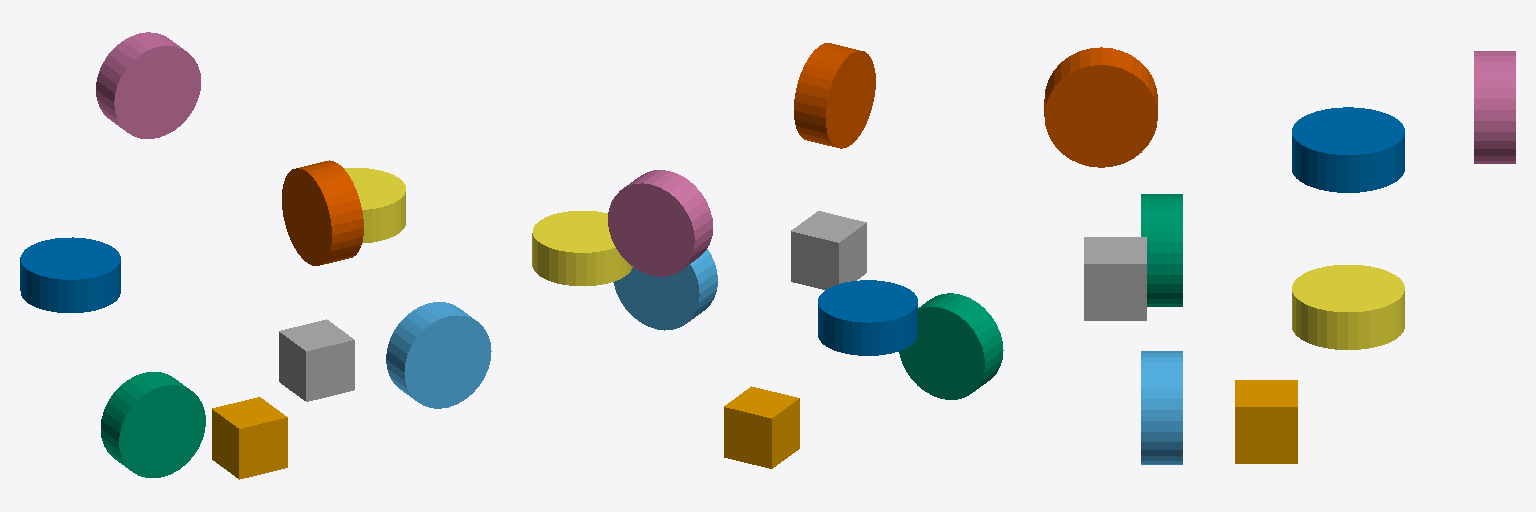
robot.urdf — nautilus:
<?xml version="1.0" ?>
<!-- =================================================================================== -->
<!-- |    This document was autogenerated by xacro from rov22.urdf.xacro               | -->
<!-- |    EDITING THIS FILE BY HAND IS NOT RECOMMENDED                                 | -->
<!-- =================================================================================== -->
<robot name="nautilus">
  <!-- Begin defining the ROV -->
  <link name="body">
    <inertial>
      <origin rpy="0.0 0.0 0.0" xyz="0.0 -.135 0.0"/>
      <!-- TOOD: get a better mass estimate -->
      <mass value="21.576"/>
      <inertia ixx="0.083" ixy="0.0" ixz="0.0" iyy="0.083" iyz="0.0" izz="0.0"/>
    </inertial>
    <collision name="body">
      <origin xyz="0.0 -.135 0.0"/>
      <geometry>
        <box size="0.29 0.31 0.24"/>
      </geometry>
    </collision>
    <visual name="body">
      <geometry>
        <mesh filename="model://nautilus/meshes/rov22.dae"/>
      </geometry>
    </visual>
  </link>
  <!-- Instantiations -->
  <!-- current model has the the directions -->
  <!-- x+ -> left -->
  <!-- y+ -> back -->
  <!-- z+ -> up -->
  <link name="motor_A">
    <inertial>
      <mass value="0.20993692907613795"/>
      <inertia ixx="0.4" ixy="0.0" ixz="0.0" iyy="0.4" iyz="0.0" izz="0.2"/>
    </inertial>
    <collision name="motor_A">
      <geometry>
        <cylinder length="0.033" radius="0.045"/>
      </geometry>
    </collision>
    <visual name="motor_A">
      <geometry>
        <cylinder length="0.033" radius="0.045"/>
      </geometry>
    </visual>
  </link>
  <joint name="motor_A_joint" type="fixed">
    <origin rpy="1.5707963267948966 0.0 0" xyz="0.1475 -0.283 -0.044"/>
    <parent link="body"/>
    <child link="motor_A"/>
  </joint>
  <link name="motor_B">
    <inertial>
      <mass value="0.20993692907613795"/>
      <inertia ixx="0.4" ixy="0.0" ixz="0.0" iyy="0.4" iyz="0.0" izz="0.2"/>
    </inertial>
    <collision name="motor_B">
      <geometry>
        <cylinder length="0.033" radius="0.045"/>
      </geometry>
    </collision>
    <visual name="motor_B">
      <geometry>
        <cylinder length="0.033" radius="0.045"/>
      </geometry>
    </visual>
  </link>
  <joint name="motor_B_joint" type="fixed">
    <origin rpy="1.5707963267948966 0.0 0" xyz="-0.1475 -0.283 -0.044"/>
    <parent link="body"/>
    <child link="motor_B"/>
  </joint>
  <link name="motor_E">
    <inertial>
      <mass value="0.20993692907613795"/>
      <inertia ixx="0.4" ixy="0.0" ixz="0.0" iyy="0.4" iyz="0.0" izz="0.2"/>
    </inertial>
    <collision name="motor_E">
      <geometry>
        <cylinder length="0.033" radius="0.045"/>
      </geometry>
    </collision>
    <visual name="motor_E">
      <geometry>
        <cylinder length="0.033" radius="0.045"/>
      </geometry>
    </visual>
  </link>
  <joint name="motor_E_joint" type="fixed">
    <origin rpy="0.0 0.0 0.0" xyz="0.1475 -0.135 0.044"/>
    <parent link="body"/>
    <child link="motor_E"/>
  </joint>
  <link name="motor_F">
    <inertial>
      <mass value="0.20993692907613795"/>
      <inertia ixx="0.4" ixy="0.0" ixz="0.0" iyy="0.4" iyz="0.0" izz="0.2"/>
    </inertial>
    <collision name="motor_F">
      <geometry>
        <cylinder length="0.033" radius="0.045"/>
      </geometry>
    </collision>
    <visual name="motor_F">
      <geometry>
        <cylinder length="0.033" radius="0.045"/>
      </geometry>
    </visual>
  </link>
  <joint name="motor_F_joint" type="fixed">
    <origin rpy="0.0 0.0 0.0" xyz="-0.1475 -0.135 0.044"/>
    <parent link="body"/>
    <child link="motor_F"/>
  </joint>
  <link name="motor_C">
    <inertial>
      <mass value="0.20993692907613795"/>
      <inertia ixx="0.4" ixy="0.0" ixz="0.0" iyy="0.4" iyz="0.0" izz="0.2"/>
    </inertial>
    <collision name="motor_C">
      <geometry>
        <cylinder length="0.033" radius="0.045"/>
      </geometry>
    </collision>
    <visual name="motor_C">
      <geometry>
        <cylinder length="0.033" radius="0.045"/>
      </geometry>
    </visual>
  </link>
  <joint name="motor_C_joint" type="fixed">
    <origin rpy="0 1.5707963267948966 0" xyz="0 -0.331 0.15"/>
    <parent link="body"/>
    <child link="motor_C"/>
  </joint>
  <link name="motor_D">
    <inertial>
      <mass value="0.20993692907613795"/>
      <inertia ixx="0.4" ixy="0.0" ixz="0.0" iyy="0.4" iyz="0.0" izz="0.2"/>
    </inertial>
    <collision name="motor_D">
      <geometry>
        <cylinder length="0.033" radius="0.045"/>
      </geometry>
    </collision>
    <visual name="motor_D">
      <geometry>
        <cylinder length="0.033" radius="0.045"/>
      </geometry>
    </visual>
  </link>
  <joint name="motor_D_joint" type="fixed">
    <origin rpy="1.5707963267948966 0.0 0" xyz="0 -0.019 0.15"/>
    <parent link="body"/>
    <child link="motor_D"/>
  </joint>
  <link name="camera1">
    <inertial>
      <mass value="0.12500000000000003"/>
      <inertia ixx="1e-4" ixy="0.0" ixz="0.0" iyy="1e-4" iyz="0.0" izz="1e-4"/>
    </inertial>
    <visual name="camera1">
      <geometry>
        <box size="0.05 0.05 0.05"/>
      </geometry>
    </visual>
    <collision name="camera1">
      <geometry>
        <box size="0.05 0.05 0.05"/>
      </geometry>
    </collision>
  </link>
  <joint name="camera1_joint" type="fixed">
    <origin rpy="0.0 0.0 0.0" xyz="0.0 -0.32 0.0"/>
    <parent link="body"/>
    <child link="camera1"/>
  </joint>
  <link name="camera2">
    <inertial>
      <mass value="0.12500000000000003"/>
      <inertia ixx="1e-4" ixy="0.0" ixz="0.0" iyy="1e-4" iyz="0.0" izz="1e-4"/>
    </inertial>
    <visual name="camera2">
      <geometry>
        <box size="0.05 0.05 0.05"/>
      </geometry>
    </visual>
    <collision name="camera2">
      <geometry>
        <box size="0.05 0.05 0.05"/>
      </geometry>
    </collision>
  </link>
  <joint name="camera2_joint" type="fixed">
    <origin rpy="0.0 0.0 0.0" xyz="0.0 -0.2 -0.125"/>
    <parent link="body"/>
    <child link="camera2"/>
  </joint>
  <!-- Sensor Definitions -->
  <gazebo>
    <plugin filename="libgazebo_ros_imu.so" name="imu_plugin">
      <alwaysOn>true</alwaysOn>
      <bodyName>body</bodyName>
      <topicName>imu</topicName>
      <serviceName>imu_service</serviceName>
      <gaussianNoise>0.0</gaussianNoise>
      <updateRate>20.0</updateRate>
    </plugin>
  </gazebo>
  <!-- Bouyancy Plugin -->
  <gazebo>
    <plugin filename="libBuoyancyPlugin.so" name="BuoyancyPlugin">
      <fluid_density>1000</fluid_density>
      <link name="body">
        <!-- TODO: calculate volume of ROV -->
        <!-- TODO: provide center of mass -->
        <volume>0.021576</volume>
        <!-- <volume>0.05</volume> -->
        <center_of_volume>0 -.135 0</center_of_volume>
      </link>
    </plugin>
  </gazebo>
  <!-- Thrusters -->
  <gazebo reference="motor_A_joint">
    <preserveFixedJoint>true</preserveFixedJoint>
  </gazebo>
  <gazebo reference="motor_B_joint">
    <preserveFixedJoint>true</preserveFixedJoint>
  </gazebo>
  <gazebo reference="motor_C_joint">
    <preserveFixedJoint>true</preserveFixedJoint>
  </gazebo>
  <gazebo reference="motor_D_joint">
    <preserveFixedJoint>true</preserveFixedJoint>
  </gazebo>
  <gazebo reference="motor_E_joint">
    <preserveFixedJoint>true</preserveFixedJoint>
  </gazebo>
  <gazebo reference="motor_F_joint">
    <preserveFixedJoint>true</preserveFixedJoint>
  </gazebo>
  <gazebo>
    <plugin filename="libthruster.so" name="thruster"/>
  </gazebo>
  <!-- Cameras -->
  <gazebo reference="camera1">
    <sensor name="camera1" type="camera">
      <update_rate>30</update_rate>
      <always_on>true</always_on>
      <camera name="front">
        <horizontal_fov>1.39626</horizontal_fov>
        <image>
          <width>640</width>
          <height>480</height>
          <format>R8G8B8</format>
        </image>
        <clip>
          <near>0.1</near>
          <far>10.0</far>
        </clip>
      </camera>
      <plugin filename="libgazebo_ros_camera.so" name="camera_controller">
        <always_on>true</always_on>
        <update_rate>30</update_rate>
        <cameraName>nautilus/camera1</cameraName>
        <imageTopicName>/nautilus/camera1/image_raw</imageTopicName>
        <cameraInfoTopicName>/nautilus/camera1/camera_info</cameraInfoTopicName>
      </plugin>
    </sensor>
  </gazebo>
  <gazebo reference="camera1_joint">
    <preserveFixedJoint>true</preserveFixedJoint>
  </gazebo>
  <gazebo reference="camera2">
    <sensor name="camera2" type="camera">
      <update_rate>30</update_rate>
      <always_on>true</always_on>
      <camera name="front">
        <horizontal_fov>1.39626</horizontal_fov>
        <image>
          <width>640</width>
          <height>480</height>
          <format>R8G8B8</format>
        </image>
        <clip>
          <near>0.1</near>
          <far>10.0</far>
        </clip>
      </camera>
      <plugin filename="libgazebo_ros_camera.so" name="camera_controller">
        <always_on>true</always_on>
        <update_rate>30</update_rate>
        <visualize>true</visualize>
        <cameraName>nautilus/camera2</cameraName>
        <imageTopicName>/nautilus/camera2/image_raw</imageTopicName>
        <cameraInfoTopicName>/nautilus/camera2/camera_info</cameraInfoTopicName>
      </plugin>
    </sensor>
    <selfCollide>false</selfCollide>
  </gazebo>
  <gazebo reference="camera2_joint">
    <preserveFixedJoint>true</preserveFixedJoint>
  </gazebo>
</robot>

--- Facts derived from the render (not from the file) ---
The picture shows the robot from 3 angles, left to right: view 1: azimuth 30°, elevation 25°; view 2: azimuth 150°, elevation 25°; view 3: azimuth 270°, elevation 25°; orthographic projection.
Model nautilus with 9 links and 8 joints (8 fixed), rooted at body, posed every joint at zero.
Links seen in each view (by area): view 1: motor_D, motor_A, motor_B, motor_C, motor_F, camera2, camera1, motor_E; view 2: motor_D, motor_B, motor_C, motor_F, motor_E, camera2, motor_A, camera1; view 3: motor_C, motor_F, motor_E, camera1, camera2, motor_A, motor_D, motor_B.
Boxes of the visible links, x1=… form: motor_D: x1=96, y1=32, x2=200, y2=138; motor_A: x1=386, y1=302, x2=491, y2=408; motor_B: x1=101, y1=372, x2=205, y2=477; motor_C: x1=282, y1=160, x2=363, y2=265; motor_F: x1=20, y1=237, x2=120, y2=312; camera2: x1=212, y1=397, x2=287, y2=479; camera1: x1=279, y1=319, x2=354, y2=401; motor_E: x1=344, y1=168, x2=405, y2=243; motor_D: x1=608, y1=170, x2=712, y2=276; motor_B: x1=899, y1=293, x2=1003, y2=399; motor_C: x1=794, y1=43, x2=875, y2=148; motor_F: x1=818, y1=280, x2=917, y2=355; motor_E: x1=532, y1=211, x2=632, y2=285; camera2: x1=724, y1=386, x2=799, y2=468; motor_A: x1=613, y1=249, x2=717, y2=330; camera1: x1=791, y1=211, x2=866, y2=289; motor_C: x1=1044, y1=47, x2=1157, y2=167; motor_F: x1=1292, y1=107, x2=1404, y2=192; motor_E: x1=1292, y1=265, x2=1404, y2=349; camera1: x1=1084, y1=237, x2=1146, y2=320; camera2: x1=1235, y1=380, x2=1297, y2=463; motor_A: x1=1141, y1=351, x2=1182, y2=464; motor_D: x1=1474, y1=51, x2=1515, y2=163; motor_B: x1=1141, y1=194, x2=1182, y2=306.
Bounding box of the posed robot: 0.385 × 0.3735 × 0.345 m (x, y, z).
0 mesh visuals loaded from 1 distinct referenced files (none loaded); not drawn: 1 (reference not matched to a file when rendering).